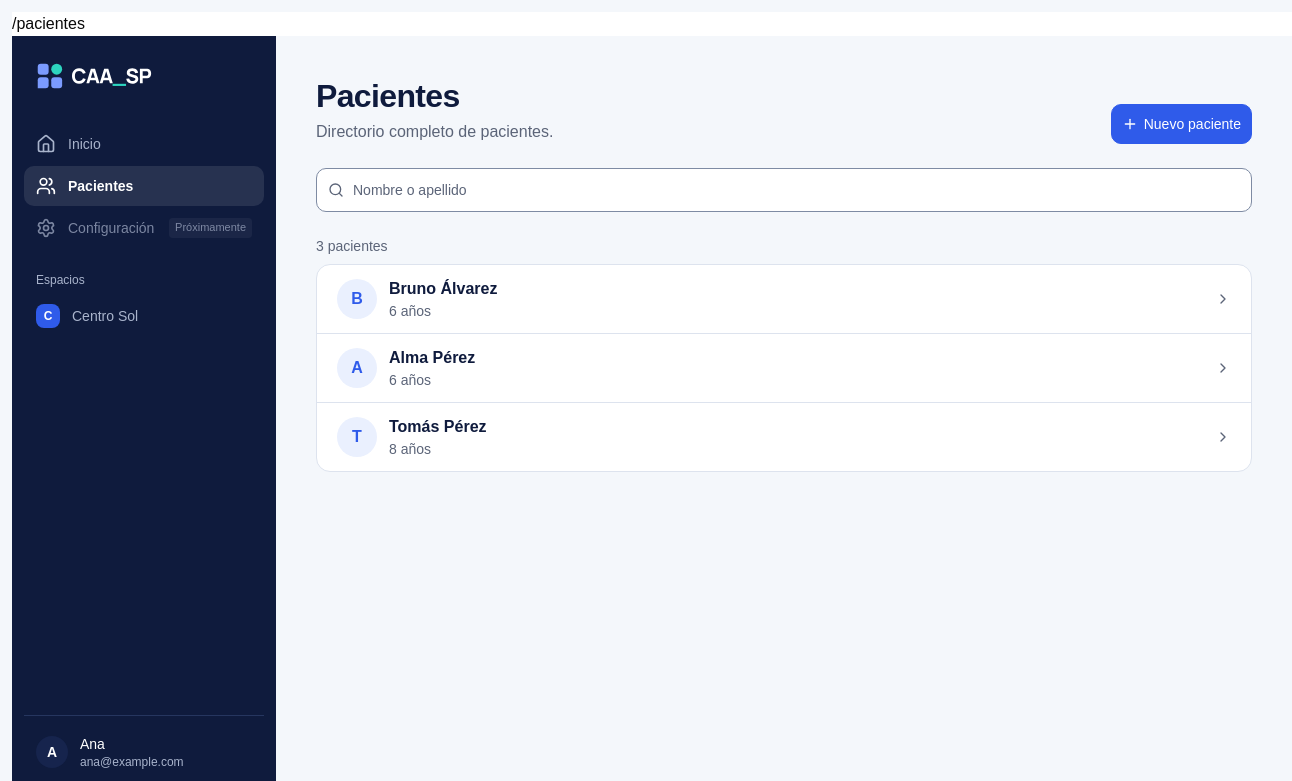
Test: PatientsPage › shows a no-matches state
In the search field named "Buscar paciente": (784, 190) [316,168,1252,212], type "zzz"
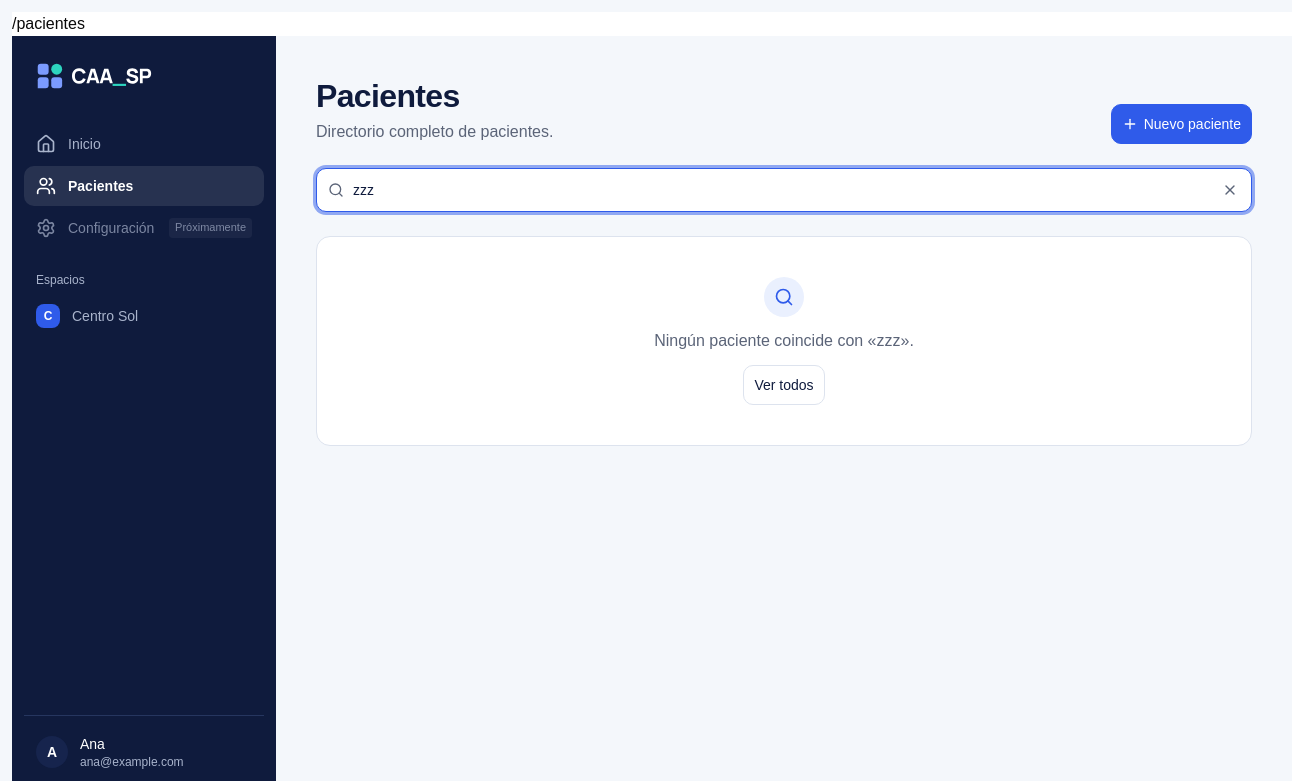
Expected: the text "Ningún paciente coincide con «zzz»." is shown, [654,329,914,353]
